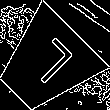L_SW: (18, 35, 75, 93)
